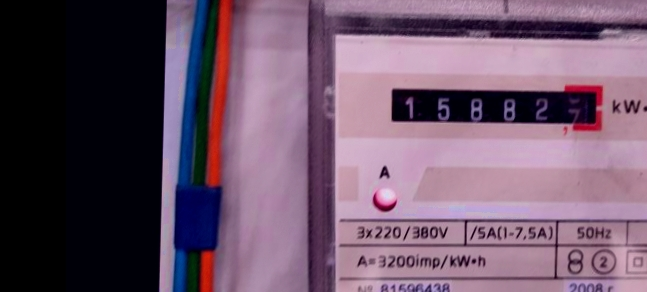1: (401, 92, 416, 120)
2: (532, 94, 549, 123)
5: (433, 94, 452, 121)
7: (564, 105, 580, 123)
8: (466, 95, 483, 123), (500, 95, 516, 123)
screen: (376, 71, 612, 140)
